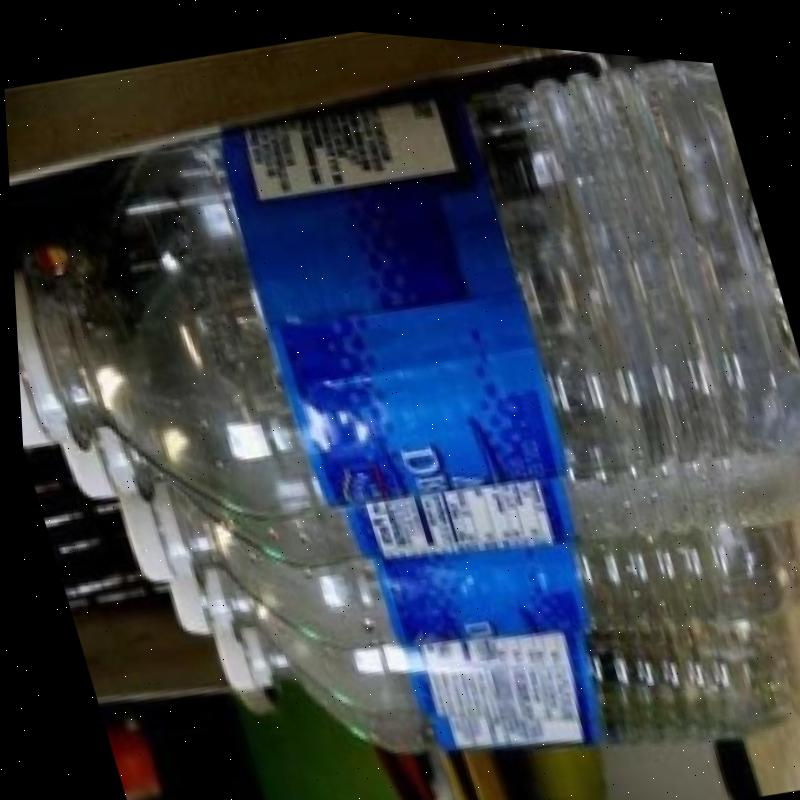botella: (0, 0, 800, 625), (37, 234, 800, 679), (104, 325, 800, 751), (152, 420, 800, 800), (197, 490, 784, 800)
